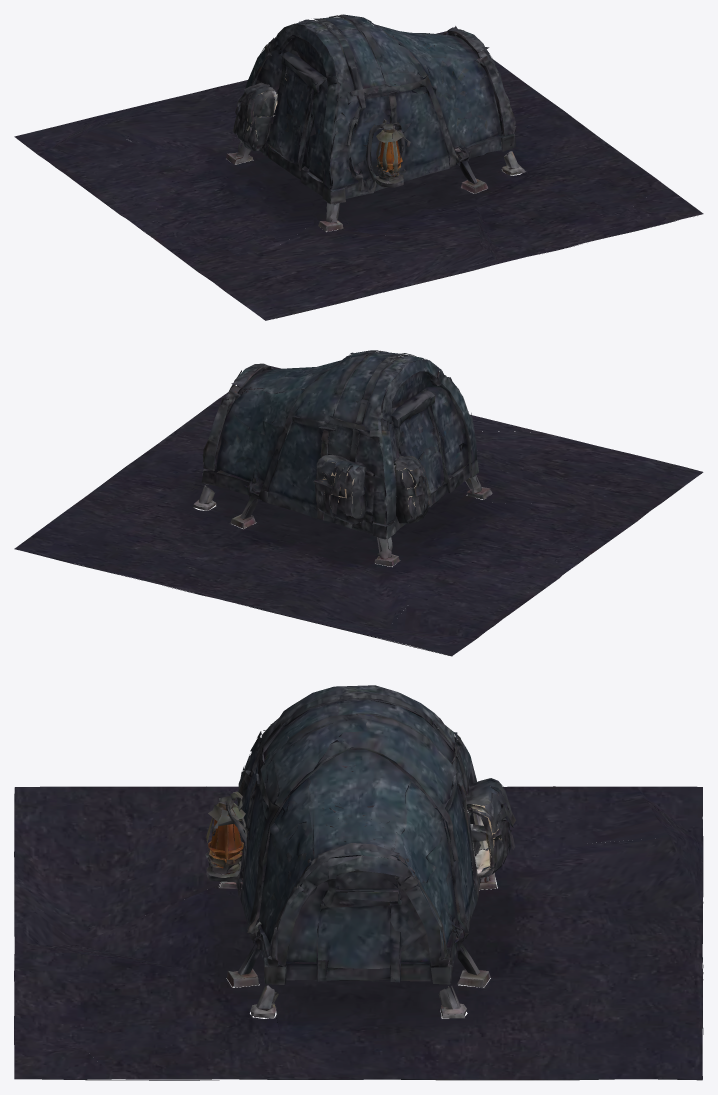
Rendered from prop-campsite-shelter-lod0.glb.
3 renders of one model, top to bottom at view 1: azimuth 30°, elevation 25°; view 2: azimuth 150°, elevation 25°; view 3: azimuth 270°, elevation 25°, orthographic. The views are drawn at different scales.
Visible parts, largest first — view 1: xenovoya_runtime_asset; view 2: xenovoya_runtime_asset; view 3: xenovoya_runtime_asset.
Boxes of the visible parts, x1,y1,x2,y2 form: xenovoya_runtime_asset: [14, 14, 703, 320]; xenovoya_runtime_asset: [14, 350, 703, 656]; xenovoya_runtime_asset: [14, 685, 703, 1080].
Size of the model in its own units: 1 by 0.3542 by 0.9971.
Materials: 1 (1 with a texture image).
